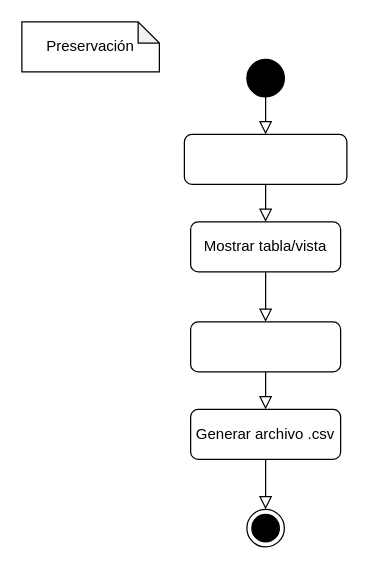
Image size: 369x569. Some labels were removed from this diagram. Here are the shapes that lost their labels. From the top down, the centre of each, then its label:
At [265,158]: "Seleccionar tabla/vista".
At [265,346]: "Pulsar opciones".
